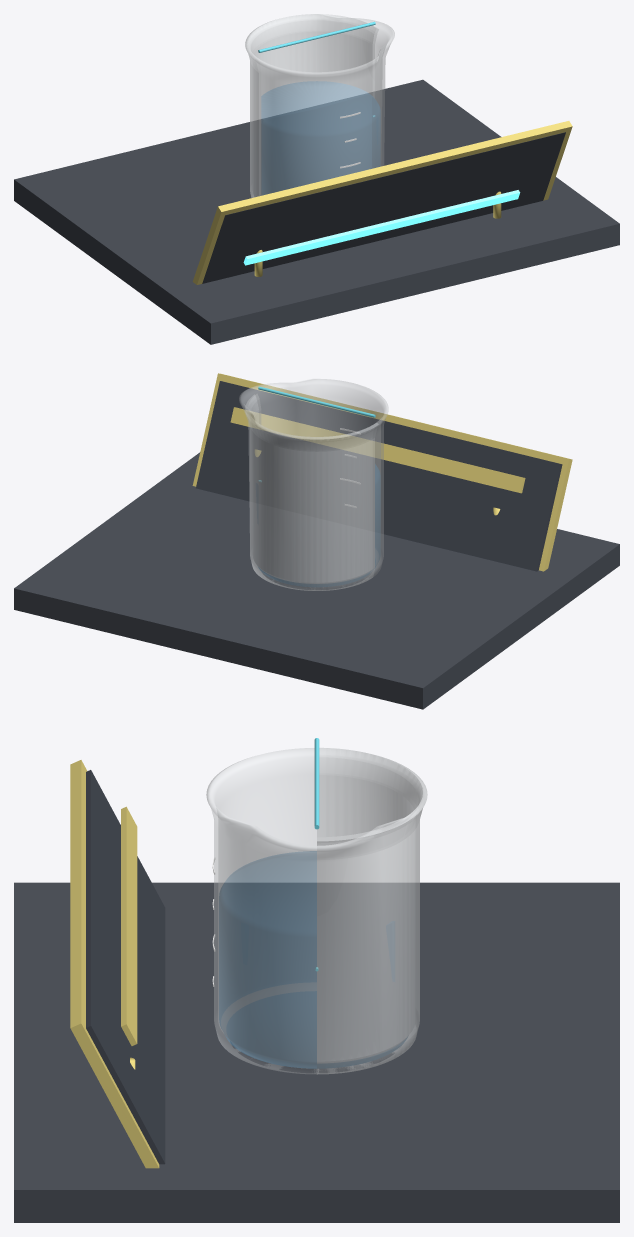
The model's file is beaker.glb.
The picture shows the model from 3 angles, top to bottom: view 1: azimuth 30°, elevation 25°; view 2: azimuth 150°, elevation 25°; view 3: azimuth 270°, elevation 25°; orthographic projection. The views are drawn at different scales.
Parts seen in each view (by area): view 1: Sec_Plinth, beaker_Plinth, beaker_Body, Sec_Plaque_Board, Sec_Beaker_Body, Sec_Plaque_Frame, Sec_Plaque_Bar_2, beaker_Liquid, Sec_Caliper_Dia; view 2: Sec_Plinth, Sec_Plaque_Board, beaker_Body, Sec_Beaker_Body, beaker_Plinth, Sec_Plaque_Title, Sec_Plaque_Frame, beaker_Liquid; view 3: Sec_Plinth, beaker_Plinth, beaker_Body, Sec_Beaker_Body, beaker_Liquid, Sec_Plaque_Board, Sec_Plaque_Frame, Sec_Plaque_Title.
Part boxes in pixels (x1,y1,x2,y2): Sec_Plinth: (14,79,619,344); beaker_Plinth: (58,95,548,307); beaker_Body: (245,14,394,197); Sec_Plaque_Board: (202,132,565,283); Sec_Beaker_Body: (245,14,378,197); Sec_Plaque_Frame: (192,121,572,284); Sec_Plaque_Bar_2: (243,190,520,265); beaker_Liquid: (370,95,380,168); Sec_Caliper_Dia: (258,21,375,52); Sec_Plinth: (14,452,619,709); Sec_Plaque_Board: (196,381,562,571); beaker_Body: (239,378,388,590); Sec_Beaker_Body: (245,393,378,590); beaker_Plinth: (91,488,398,569); Sec_Plaque_Title: (230,407,525,493); Sec_Plaque_Frame: (192,373,572,571); beaker_Liquid: (375,464,380,567); Sec_Plinth: (14,882,619,1222); beaker_Plinth: (44,908,589,1164); beaker_Body: (206,747,427,1074); Sec_Beaker_Body: (317,747,427,1074); beaker_Liquid: (219,851,316,1068); Sec_Plaque_Board: (86,770,165,1164); Sec_Plaque_Frame: (70,760,159,1168); Sec_Plaque_Title: (121,806,137,1045).
Size of the model in its own units: 0.24 by 0.1048 by 0.2.
